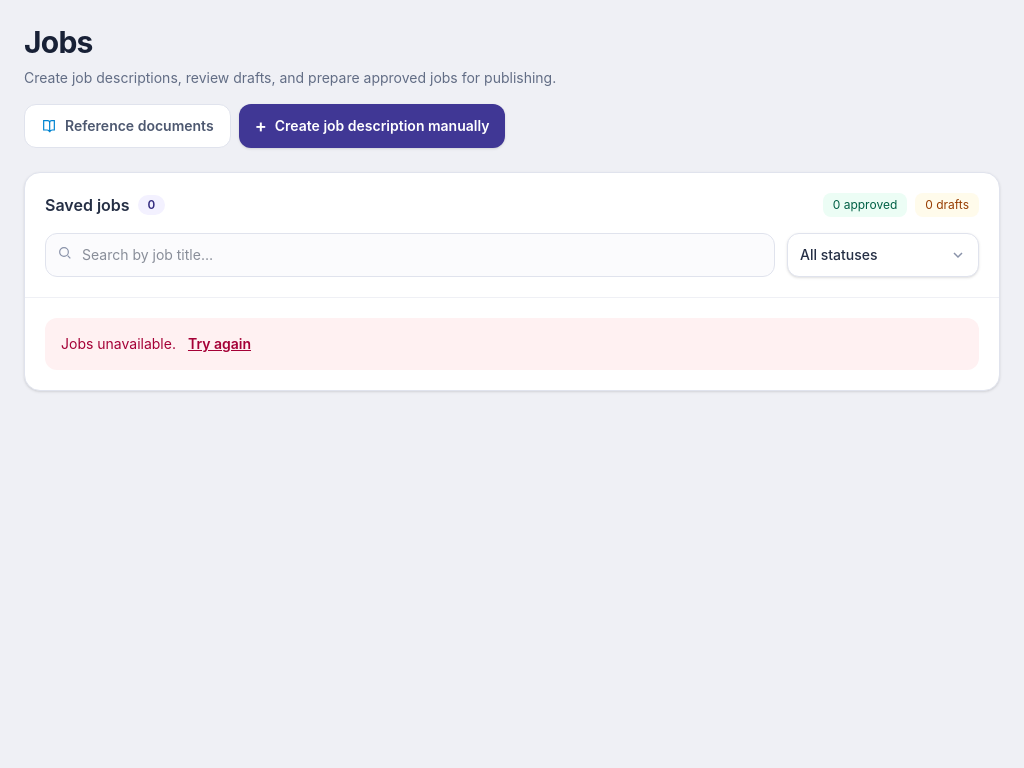
Test case: recovers from a failed job list request
The width and height of the screenshot is (1024, 768).
Check: the message shows "Jobs unavailable", box x1=61 y1=335 x2=176 y2=352
Click the button "Try again" at (220, 344), box x1=188 y1=334 x2=251 y2=354
(page scrolled)
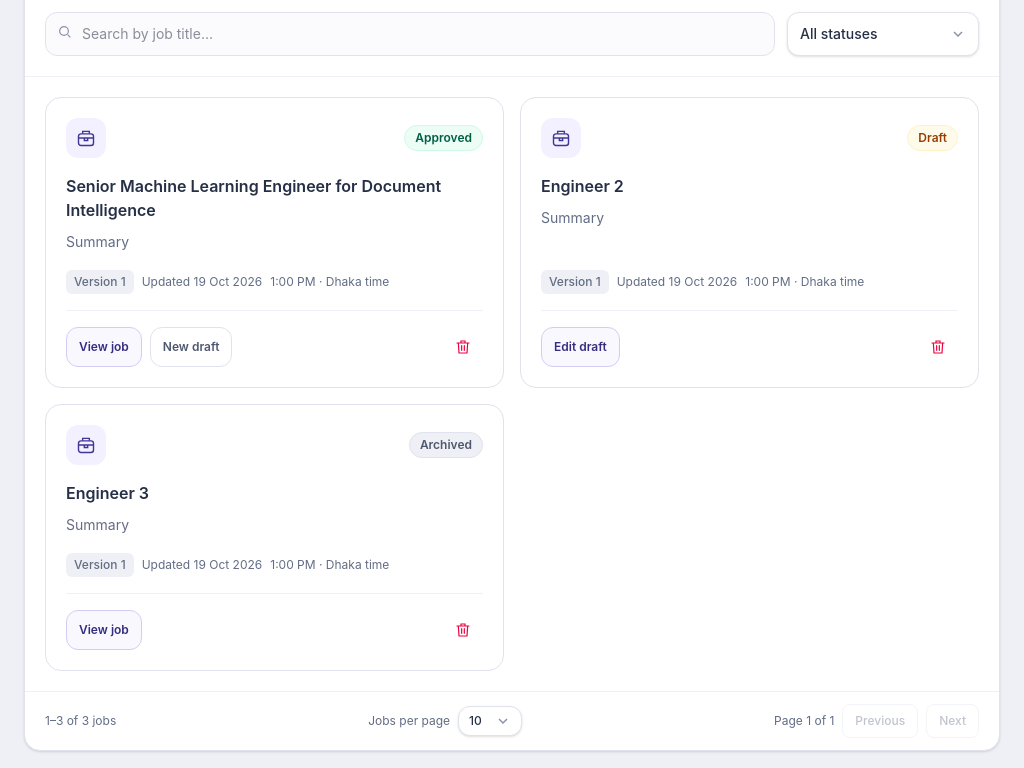
Check: the list named "Saved job cards" is shown
